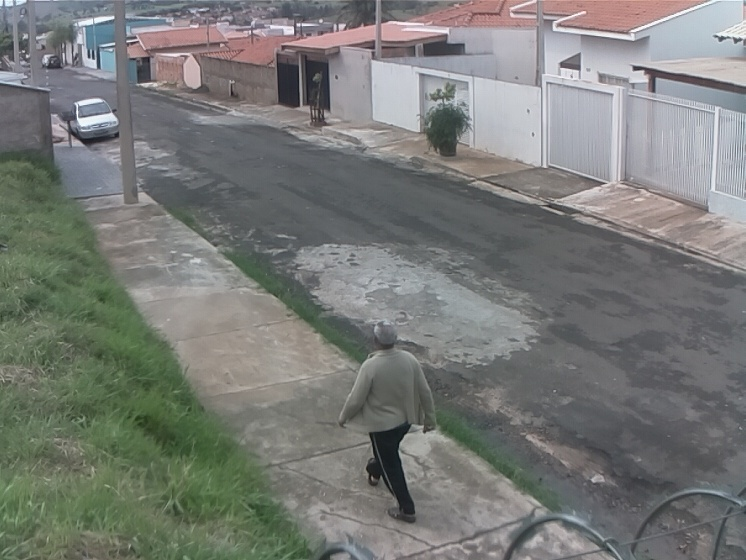person: (335, 318, 437, 527)
